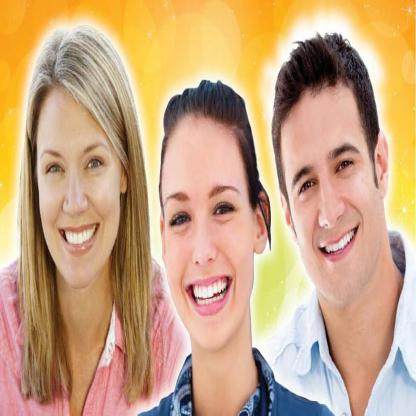face: (277, 79, 381, 308), (162, 114, 258, 351), (36, 87, 124, 288)
